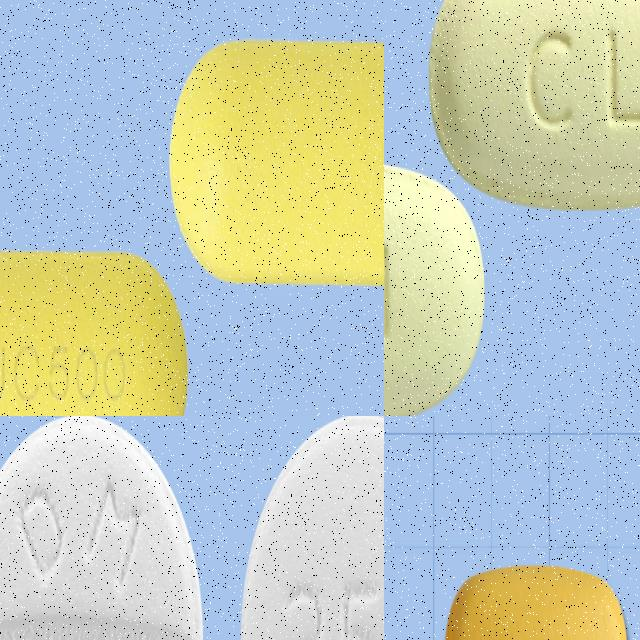Cifxacin: (0, 416, 207, 640), (235, 416, 384, 640)
Clabicks: (442, 555, 632, 640)
Clamacin: (426, 0, 640, 224), (384, 152, 488, 416)
Clarix: (171, 35, 384, 287), (0, 246, 188, 416)
